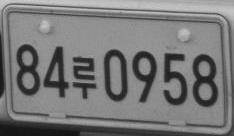0: (103, 48, 128, 102)
4: (42, 45, 69, 98)
5: (162, 52, 188, 105)
8: (191, 52, 218, 107), (15, 43, 41, 96)
9: (131, 49, 157, 103)
루: (72, 56, 96, 99)
